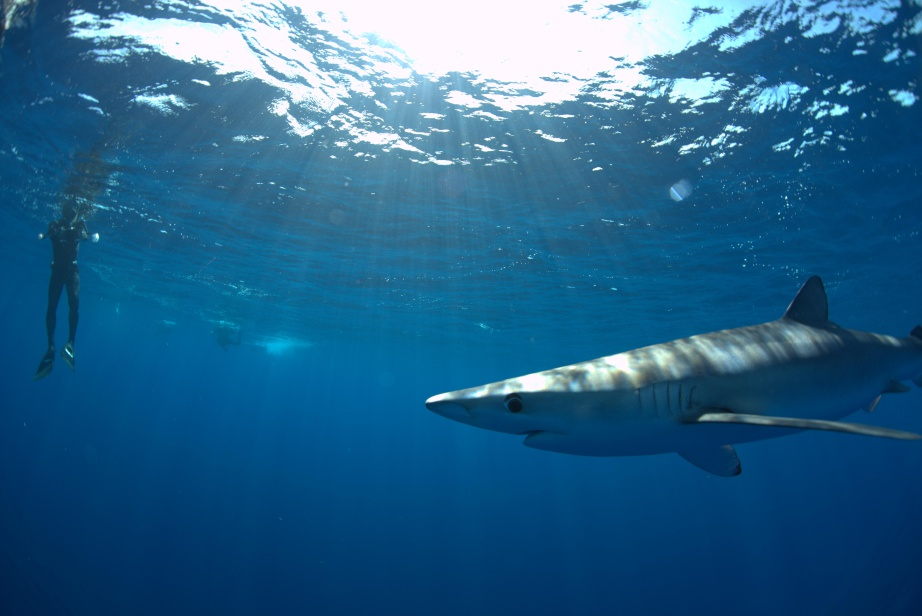Azul: (410, 258, 922, 492)
